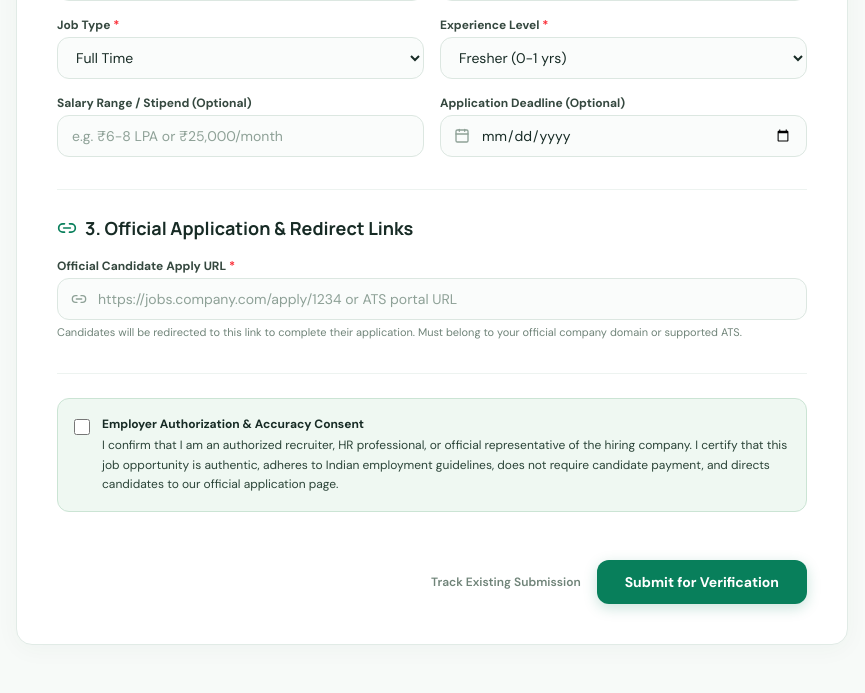
Test: Employer Job Submission & Status System › shows clear inline validation errors when required fields are missing or consent unchecked
(page scrolled)
// Submit empty form
Click the button "Submit for Verification".
click(702, 582)  # box [597,560,807,604]
(page scrolled)
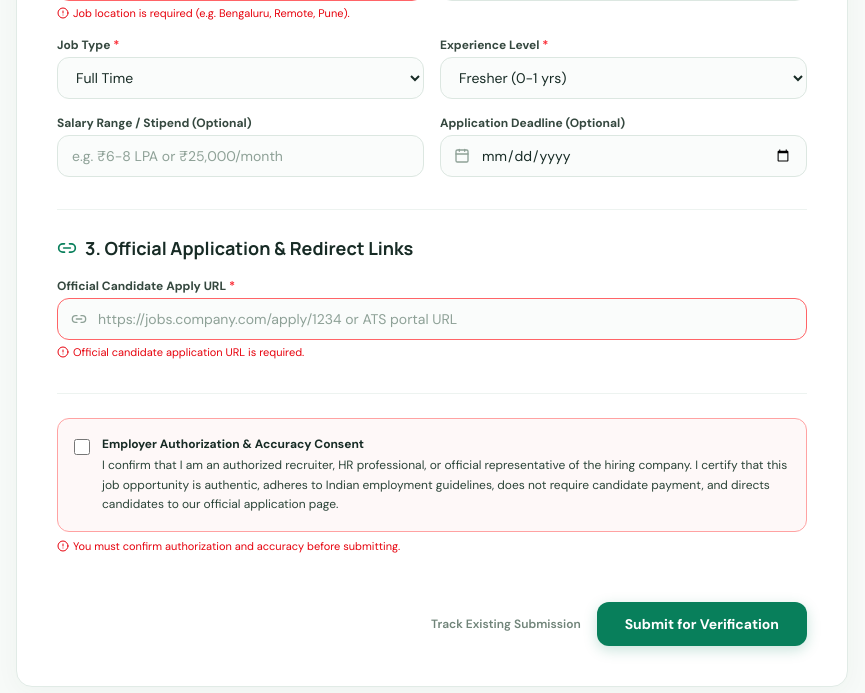
Result: the text "Official candidate application URL is required." is shown at [57,345,304,359]
Result: the text "You must confirm authorization and accuracy before submitting." is shown at [57,538,400,552]
